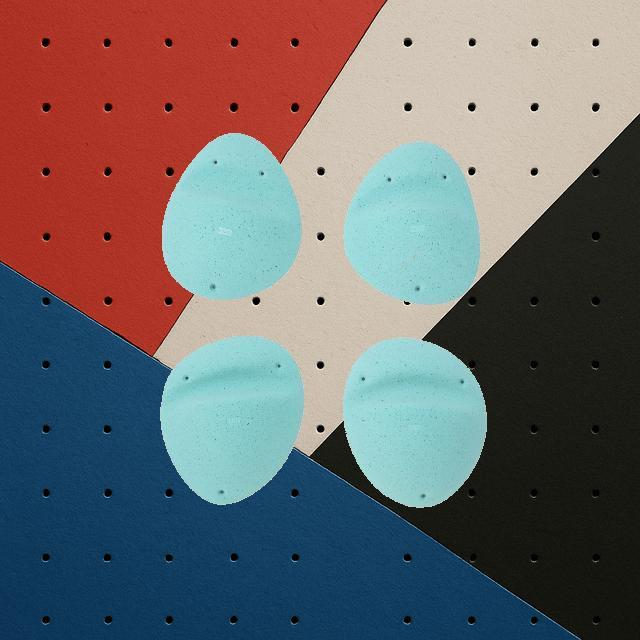Sloper: (340, 336, 488, 508), (158, 334, 304, 506), (160, 132, 302, 300), (341, 141, 481, 305)
